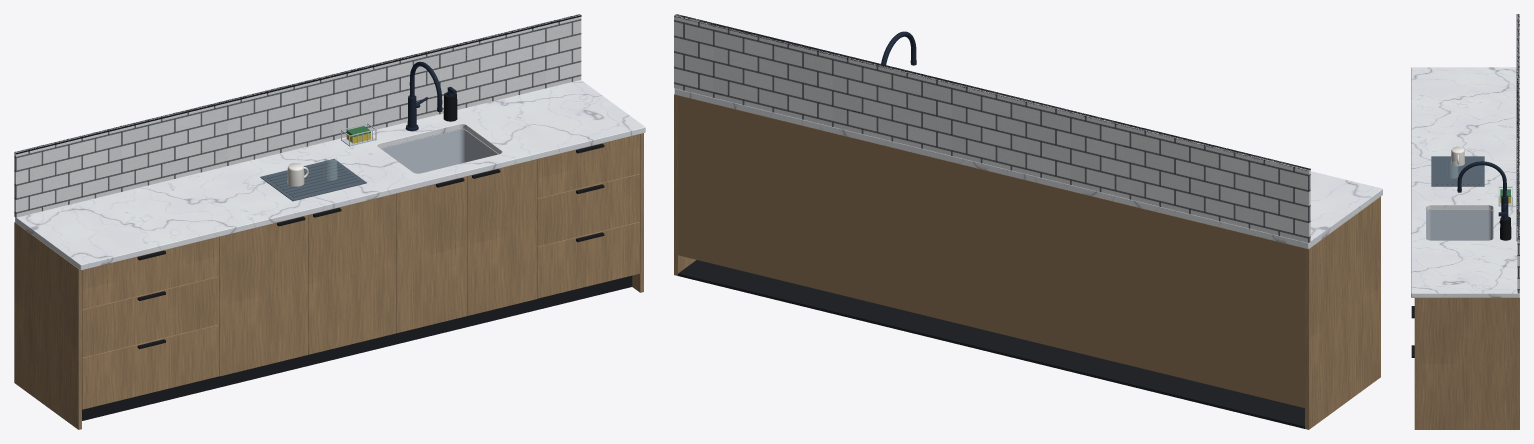
The model's file is Office_Pantry_Kitchen_Counter.glb.
The picture shows the model from 3 angles, left to right: view 1: azimuth 30°, elevation 25°; view 2: azimuth 150°, elevation 25°; view 3: azimuth 270°, elevation 25°; orthographic projection. The views are drawn at different scales.
Visible parts, largest first — view 1: Backsplash_Subway_Tile, Countertop_Marble, Bay2_Door_L, Bay2_Door_R, End_Panel_L, Bay3_Door_R, Bay3_Door_L, Bay1_Drawer_3, Bay1_Drawer_2, Toe_Kick, Bay1_Drawer_1, Bay4_Drawer_3 (+6 smaller); view 2: Carcass_Back, Backsplash_Subway_Tile, End_Panel_L, Toe_Kick_Base, Countertop_Marble, Backsplash_Trim_Cap, End_Panel_R; view 3: Countertop_Marble, End_Panel_R, Sink_Bowl_Walls, Mat_Base, Backsplash_Subway_Tile, Backsplash_Trim_Cap, Faucet_Gooseneck, Pump_Bottle, Mug_Upturned, Glass_Upturned, Faucet_Body.
Boxes of the visible parts, left/top/right/bottom form: Backsplash_Subway_Tile: left=14, top=14, right=581, bottom=217; Countertop_Marble: left=15, top=80, right=645, bottom=270; Bay2_Door_L: left=219, top=215, right=307, bottom=376; Bay2_Door_R: left=308, top=193, right=396, bottom=354; End_Panel_L: left=14, top=222, right=81, bottom=429; Bay3_Door_R: left=467, top=159, right=537, bottom=315; Bay3_Door_L: left=396, top=176, right=466, bottom=332; Bay1_Drawer_3: left=82, top=324, right=219, bottom=409; Bay1_Drawer_2: left=82, top=276, right=219, bottom=357; Toe_Kick: left=82, top=275, right=632, bottom=420; Bay1_Drawer_1: left=82, top=236, right=219, bottom=309; Bay4_Drawer_3: left=537, top=222, right=639, bottom=298; Carcass_Back: left=678, top=95, right=1304, bottom=407; Backsplash_Subway_Tile: left=674, top=14, right=1310, bottom=242; End_Panel_L: left=1305, top=196, right=1380, bottom=429; Toe_Kick_Base: left=678, top=260, right=1304, bottom=428; Countertop_Marble: left=674, top=88, right=1382, bottom=248; Backsplash_Trim_Cap: left=674, top=14, right=1310, bottom=170; End_Panel_R: left=674, top=94, right=696, bottom=275; Countertop_Marble: left=1411, top=67, right=1519, bottom=297; End_Panel_R: left=1414, top=297, right=1519, bottom=429; Sink_Bowl_Walls: left=1426, top=209, right=1492, bottom=240; Mat_Base: left=1431, top=156, right=1484, bottom=186; Backsplash_Subway_Tile: left=1517, top=14, right=1519, bottom=293; Backsplash_Trim_Cap: left=1516, top=14, right=1519, bottom=240; Faucet_Gooseneck: left=1457, top=161, right=1506, bottom=197; Pump_Bottle: left=1500, top=216, right=1511, bottom=240; Mug_Upturned: left=1451, top=146, right=1464, bottom=166; Glass_Upturned: left=1447, top=160, right=1458, bottom=178; Faucet_Body: left=1501, top=195, right=1508, bottom=216.
Bounding box in the file's own units: 3.2 × 1.3 × 0.65.
Materials: 15 (3 with a texture image).
